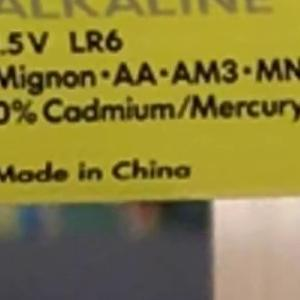LR6: (59, 19, 133, 63)
